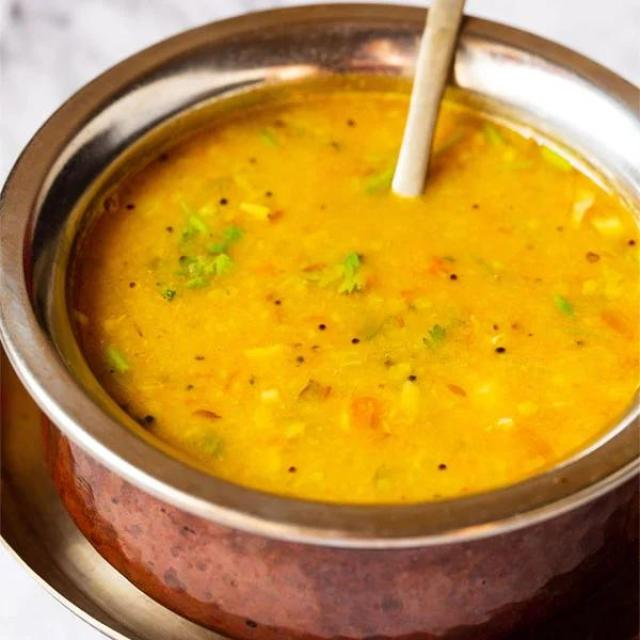dal: (70, 95, 637, 504)
